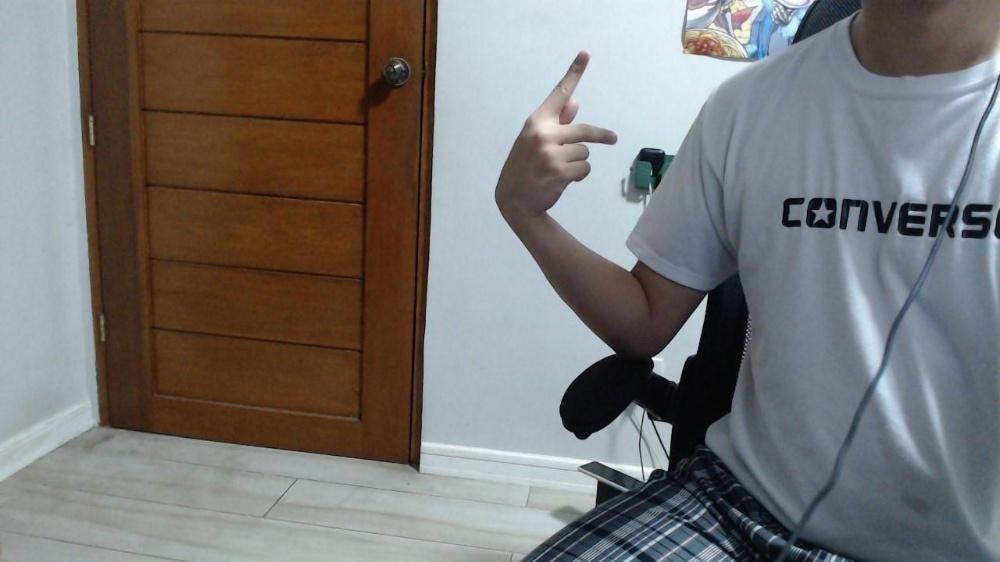k: (512, 49, 617, 213)
